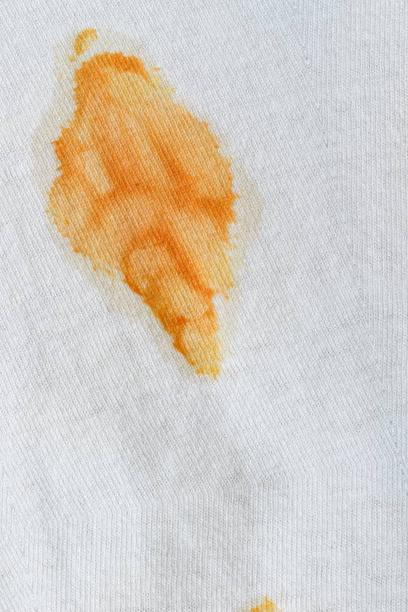stain: (51, 26, 240, 380)
